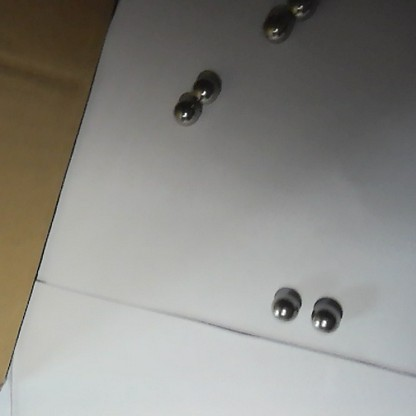ironball: (173, 95, 207, 128), (258, 14, 291, 45), (269, 293, 299, 323), (190, 73, 222, 101), (311, 303, 339, 335), (286, 0, 317, 22)
